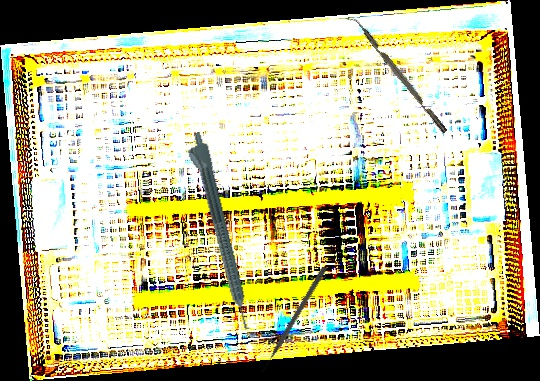Chopper: (345, 12, 448, 139)
Handpiece: (181, 130, 254, 334)
Pusher: (258, 265, 328, 374)
